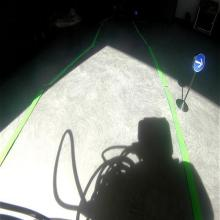right: (193, 52, 205, 73)
